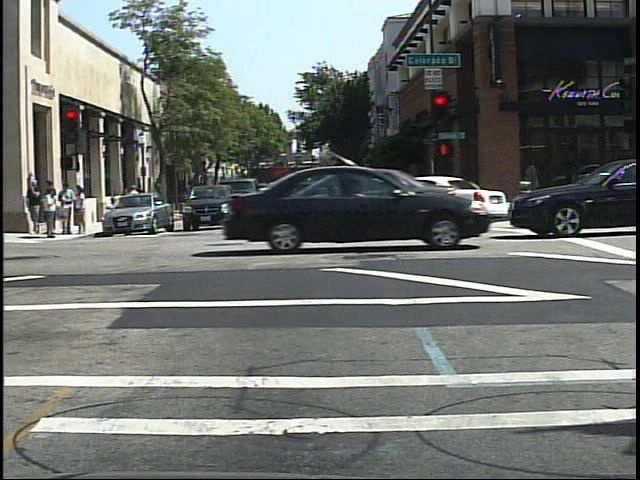person: (124, 181, 142, 220), (136, 181, 152, 218)
